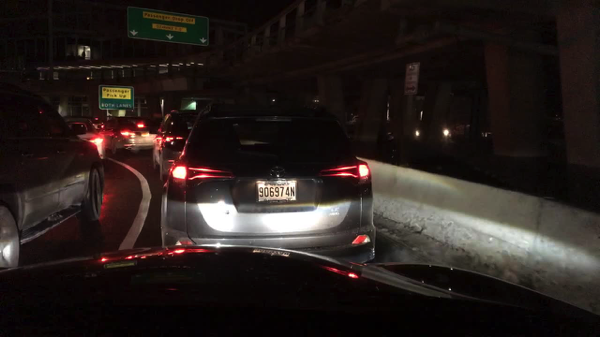car: (160, 103, 376, 265), (1, 82, 104, 272), (153, 110, 200, 177), (103, 118, 158, 155), (65, 117, 103, 163), (415, 121, 449, 139), (452, 122, 472, 141)
traffic sign: (127, 6, 209, 46), (99, 86, 134, 110), (403, 62, 419, 96)
